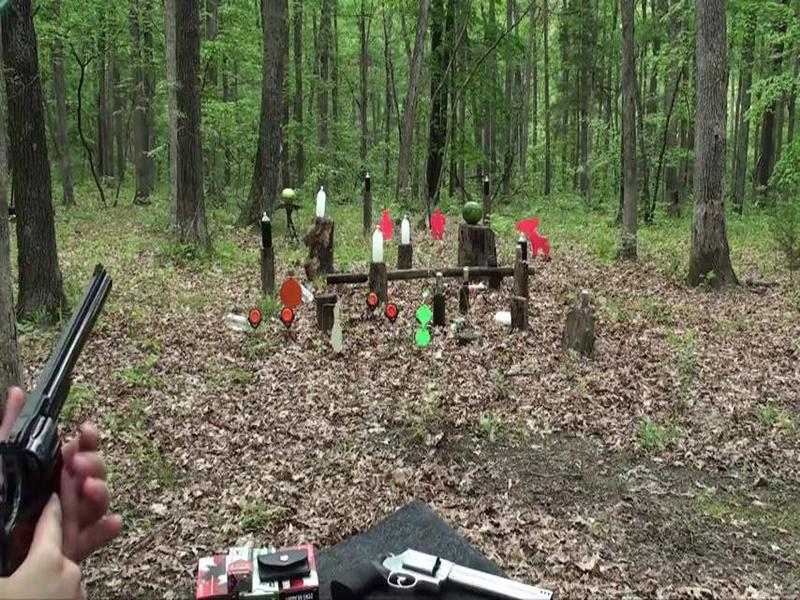Revolver: (1, 250, 129, 579)
